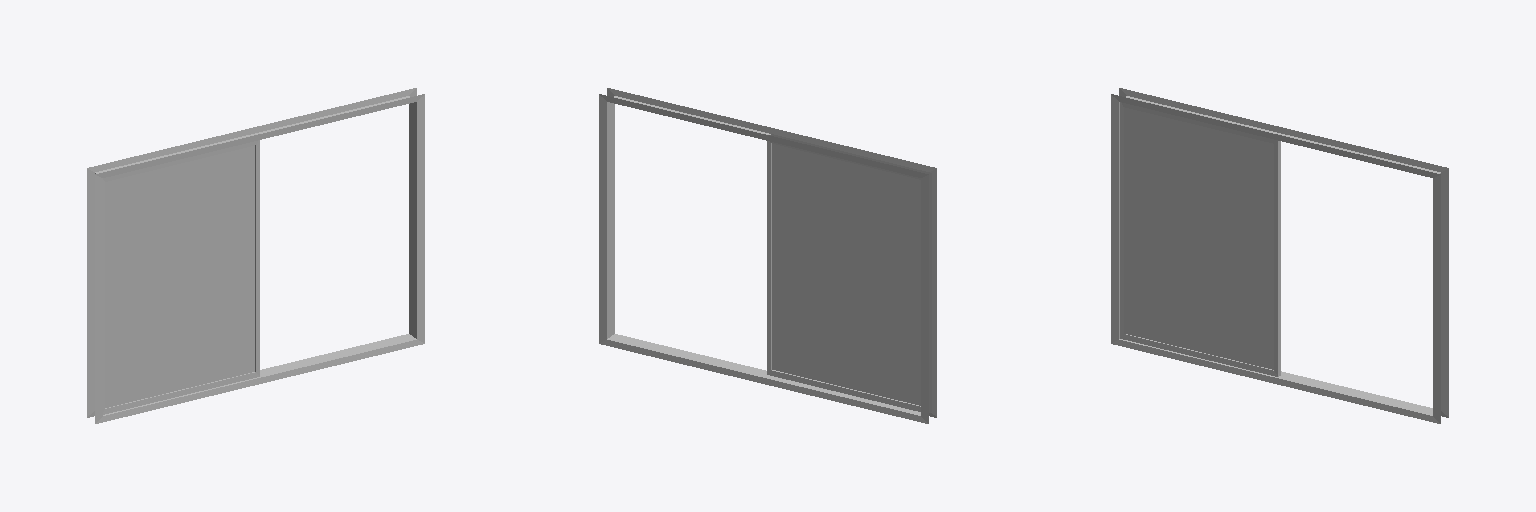
Rendered from Buildings02_WindowB.obj.
3 renders of one model, left to right at view 1: azimuth 30°, elevation 25°; view 2: azimuth 150°, elevation 25°; view 3: azimuth 330°, elevation 25°, orthographic.
Parts seen in each view (by area): view 1: Plane, Cube.000_Cube.006; view 2: Plane, Cube.000_Cube.006; view 3: Plane, Cube.000_Cube.006.
Part boxes in pixels (x1,y1,x2,y2): Plane: (105, 146, 254, 407); Cube.000_Cube.006: (87, 88, 424, 423); Plane: (770, 134, 931, 412); Cube.000_Cube.006: (599, 88, 936, 423); Plane: (1124, 107, 1273, 369); Cube.000_Cube.006: (1111, 88, 1448, 423).
Bounding box in the file's own units: 2.79 × 2.02 × 0.1237.